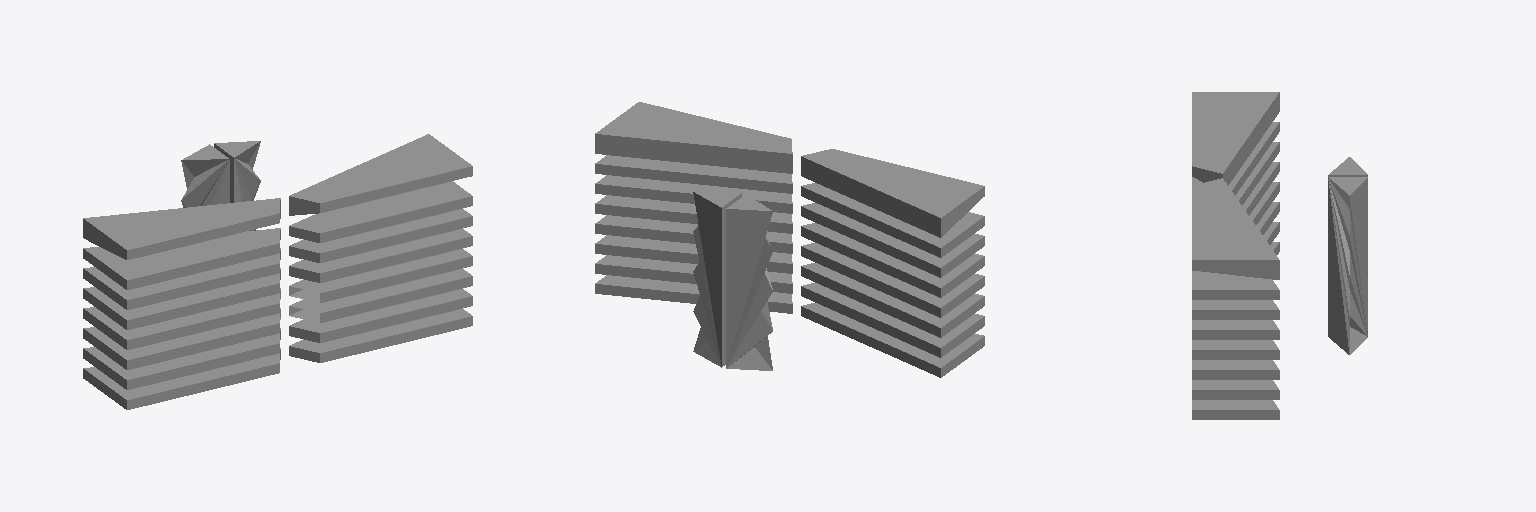
Rendered from ribs.obj.
3 views of the same model, side by side, from view 1: azimuth 30°, elevation 25°; view 2: azimuth 150°, elevation 25°; view 3: azimuth 270°, elevation 25° (orthographic).
Visible parts, largest first — view 1: Cube; view 2: Cube; view 3: Cube.
Part boxes in pixels (x1,y1,x2,y2): Cube: (83,134,472,409); Cube: (595,102,984,377); Cube: (1192,92,1367,419).
Size of the model in its own units: 4.53 by 2 by 2.